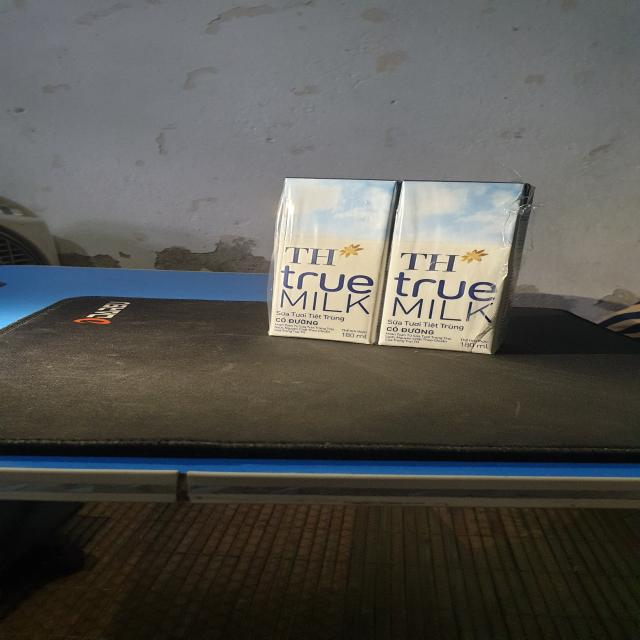TH: (373, 179, 529, 358), (263, 179, 407, 344)
